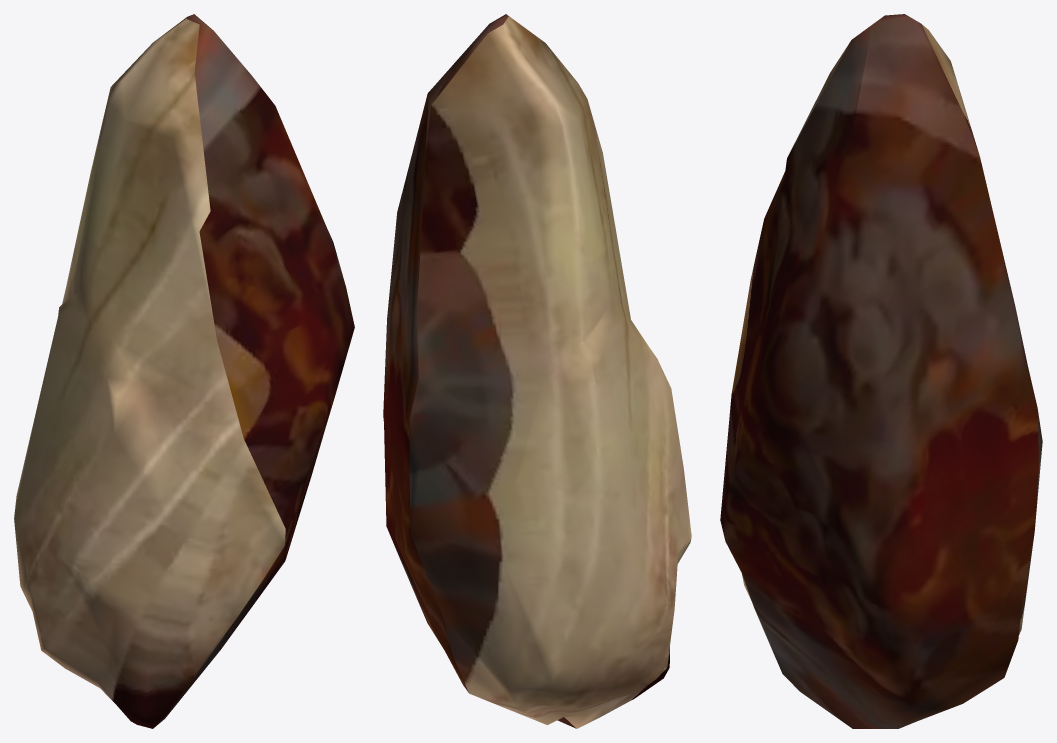
3 views of the same model, side by side, from view 1: azimuth 30°, elevation 25°; view 2: azimuth 150°, elevation 25°; view 3: azimuth 270°, elevation 25° (orthographic). The views are drawn at different scales.
Parts seen in each view (by area): view 1: SM_Monstrous_Fang_01_LOD0; view 2: SM_Monstrous_Fang_01_LOD0; view 3: SM_Monstrous_Fang_01_LOD0.
Boxes of the visible parts, bbox=[...] form: SM_Monstrous_Fang_01_LOD0: bbox=[14, 14, 354, 728]; SM_Monstrous_Fang_01_LOD0: bbox=[383, 14, 691, 728]; SM_Monstrous_Fang_01_LOD0: bbox=[720, 14, 1042, 728].
Bounding box in the file's own units: 0.4977 × 1.14 × 0.4477.
